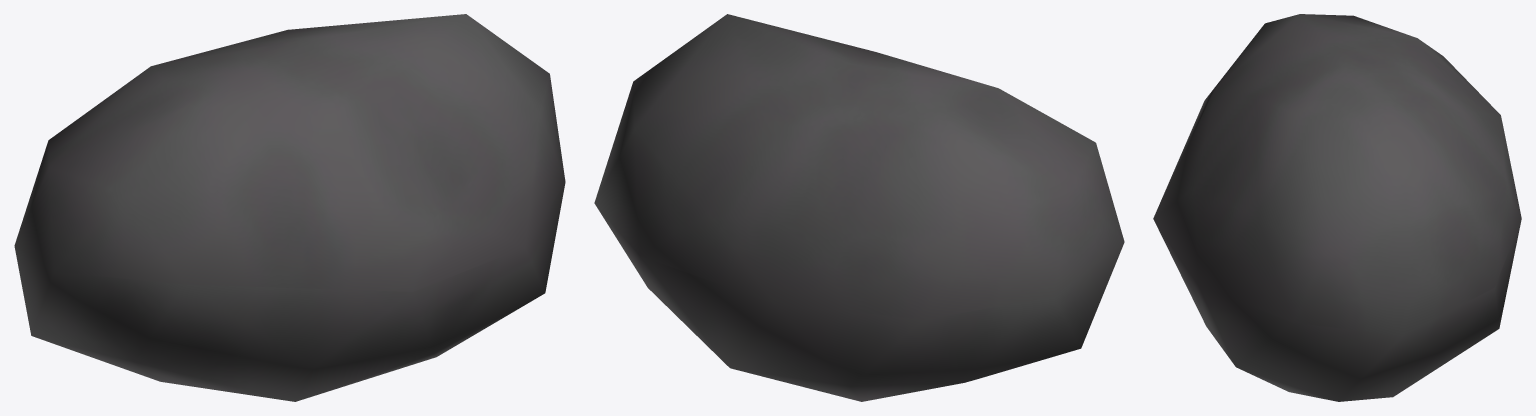
Rendered from Piedra2.fbx.
3 views of the same model, side by side, from view 1: azimuth 30°, elevation 25°; view 2: azimuth 150°, elevation 25°; view 3: azimuth 270°, elevation 25° (orthographic). The views are drawn at different scales.
Parts seen in each view (by area): view 1: Icosphere.012; view 2: Icosphere.012; view 3: Icosphere.012.
Boxes of the visible parts, bbox=[...] form: Icosphere.012: bbox=[14, 14, 565, 401]; Icosphere.012: bbox=[594, 14, 1124, 401]; Icosphere.012: bbox=[1153, 14, 1521, 401].
Bounding box in the file's own units: 338 × 216 × 234.
